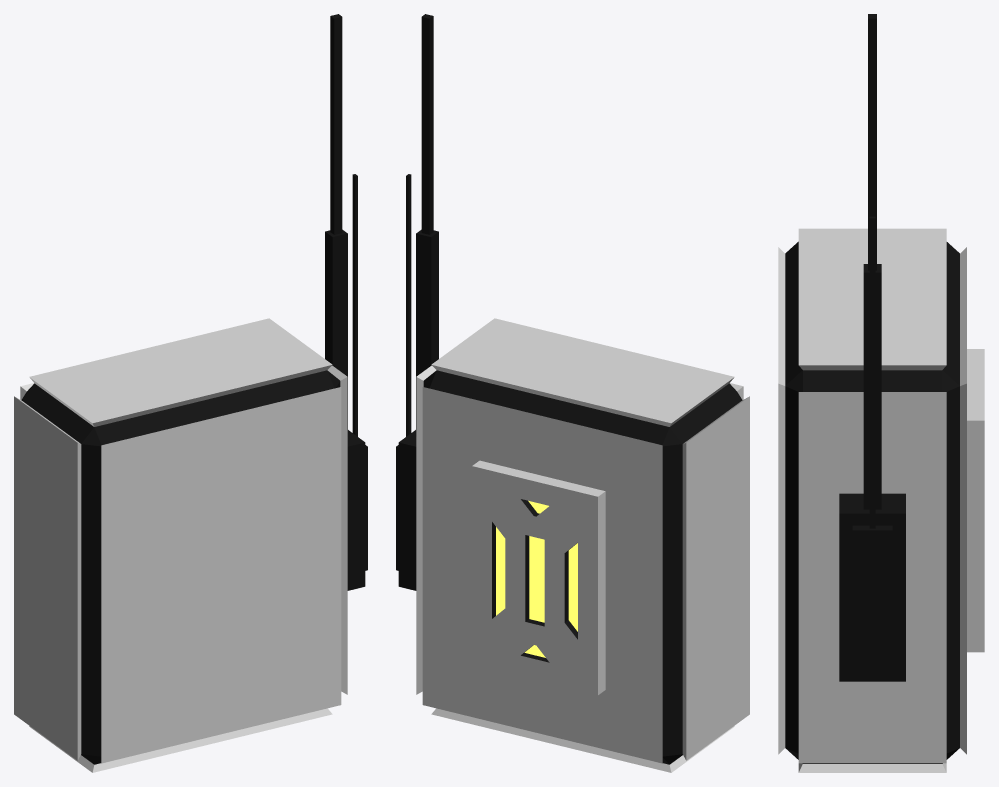
3 renders of one model, left to right at view 1: azimuth 30°, elevation 25°; view 2: azimuth 150°, elevation 25°; view 3: azimuth 270°, elevation 25°, orthographic. The views are drawn at different scales.
Visible parts, largest first — view 1: BP; view 2: BP; view 3: BP.
Part boxes in pixels (x1=…): BP: x1=14, y1=14, x2=367, y2=772; BP: x1=396, y1=14, x2=749, y2=772; BP: x1=778, y1=14, x2=984, y2=772.
Size of the model in its own units: 115 by 234 by 56.4.
